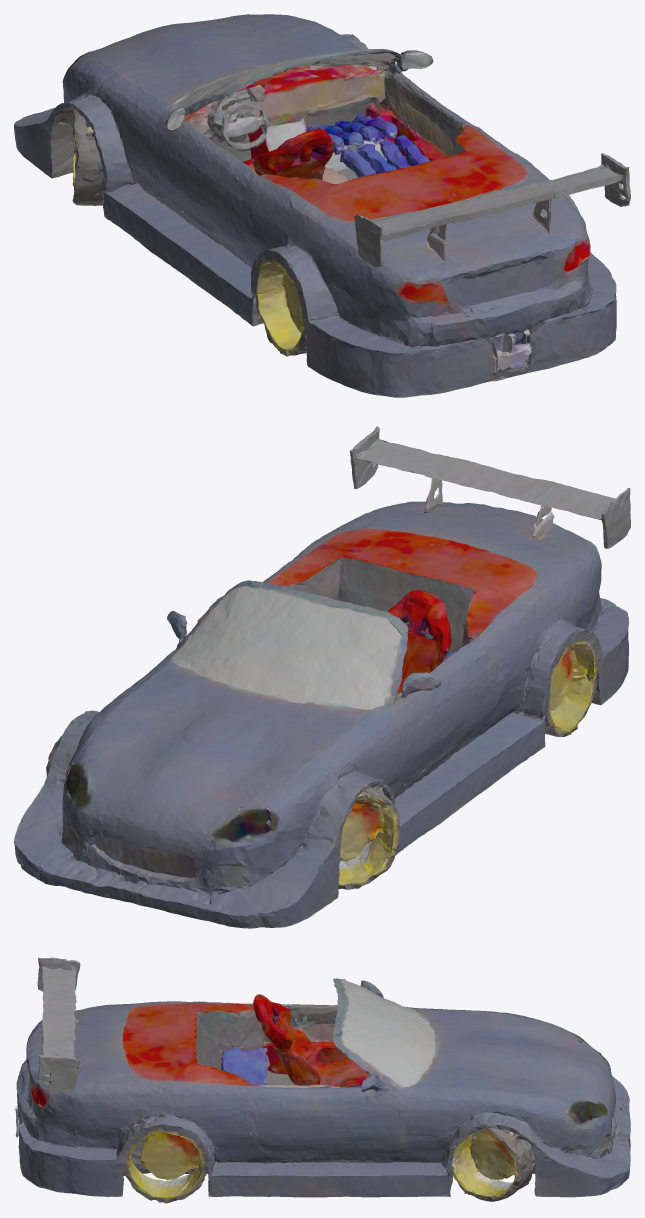
3 views of the same model, one above another, from view 1: azimuth 30°, elevation 25°; view 2: azimuth 150°, elevation 25°; view 3: azimuth 270°, elevation 25° (orthographic). The views are drawn at different scales.
Visible parts, largest first — view 1: defaultobject; view 2: defaultobject; view 3: defaultobject.
Part boxes in pixels (<box>): defaultobject: <box>14,14,630,397</box>; defaultobject: <box>14,426,630,928</box>; defaultobject: <box>14,957,630,1203</box>.
Bounding box in the file's own units: 0.4567 × 0.249 × 0.9541.
